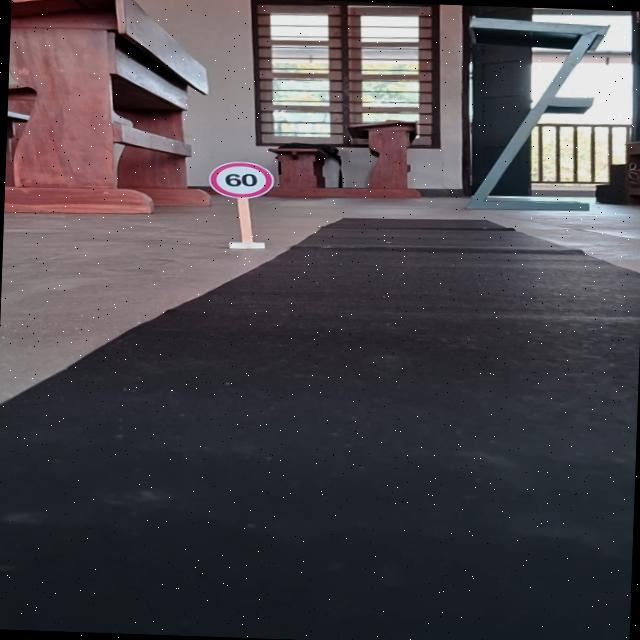Speed60: (207, 158, 276, 200)
